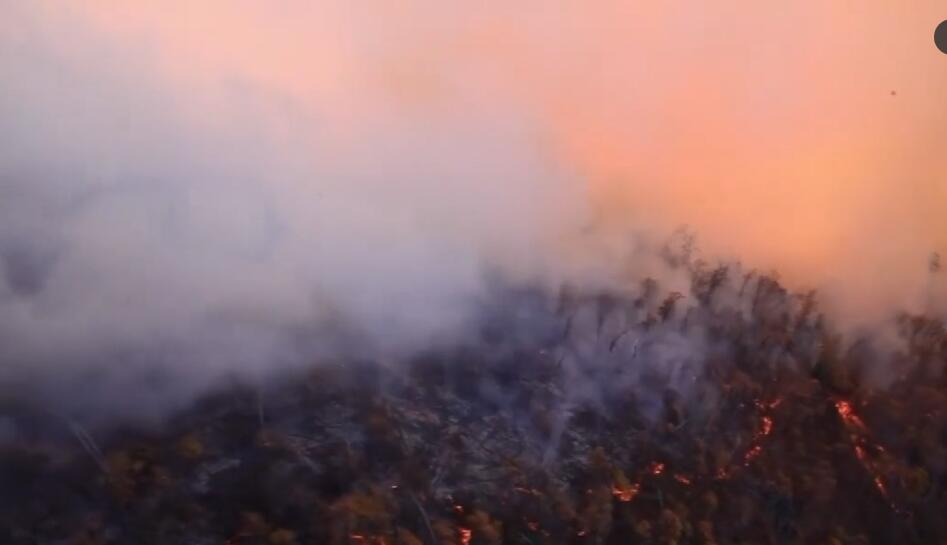yanwu: (1, 1, 722, 455)
